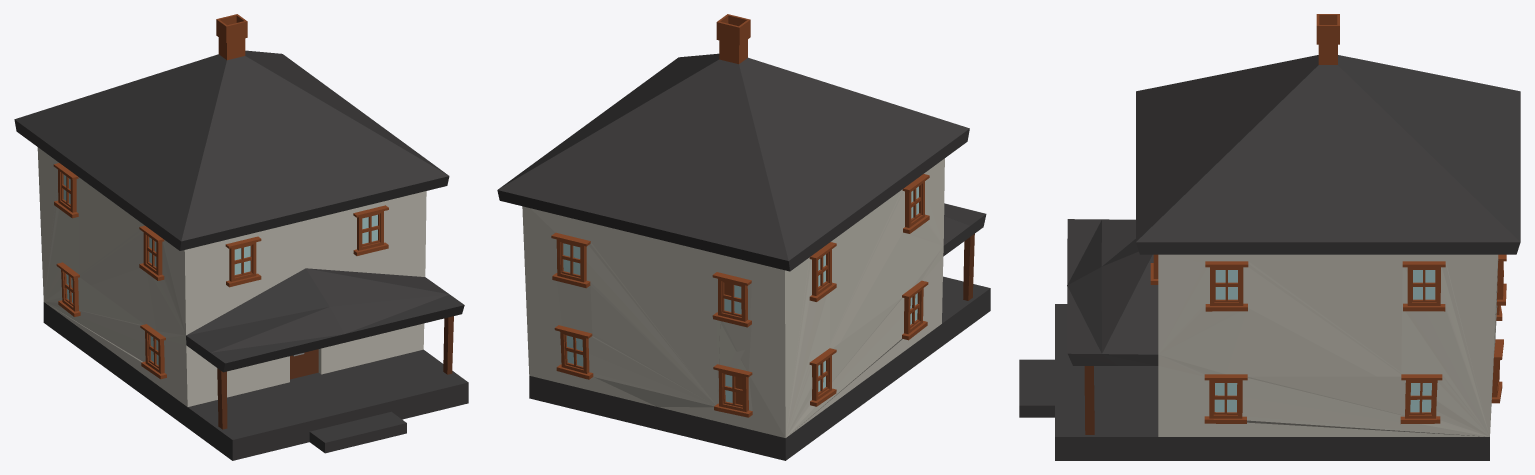
The model's file is house-1.glb.
3 renders of one model, left to right at view 1: azimuth 30°, elevation 25°; view 2: azimuth 150°, elevation 25°; view 3: azimuth 270°, elevation 25°, orthographic. The views are drawn at different scales.
Size of the model in its own units: 1.22 by 1.42 by 1.72.
